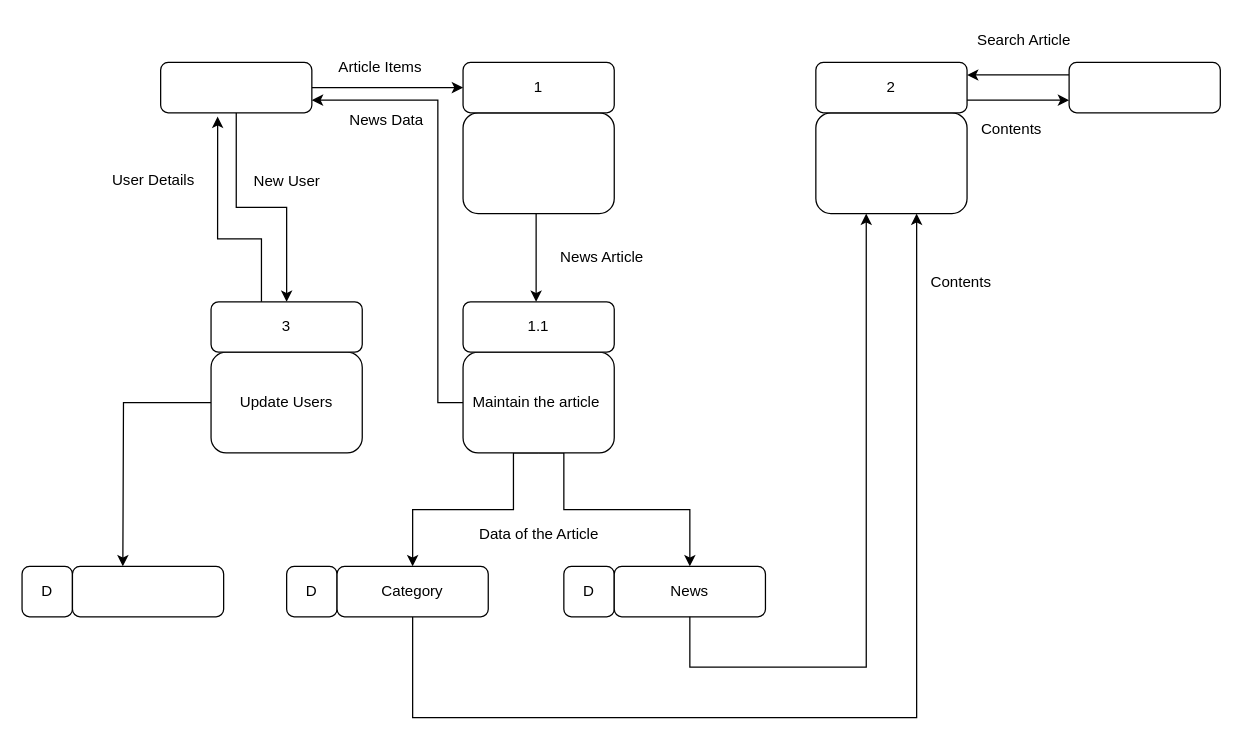
The diagram is 1242 pixels wide and 750 high, and some of its shapes have lost their labels. Each missing label, with the box of its shape:
Admin: (159, 61, 312, 113)
Display the article: (815, 112, 967, 214)
Upload an Article: (462, 112, 614, 214)
Users: (71, 565, 224, 617)
Viewers: (1068, 61, 1220, 113)
